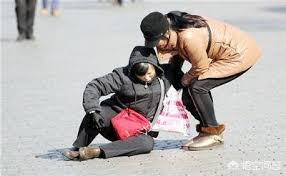fall: (54, 43, 174, 166)
